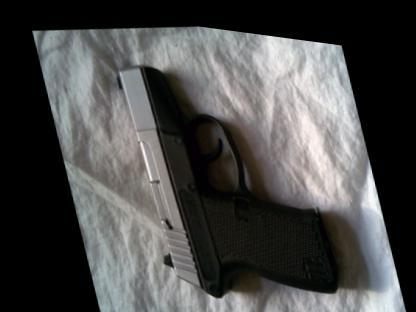pistol: (112, 35, 338, 312)
